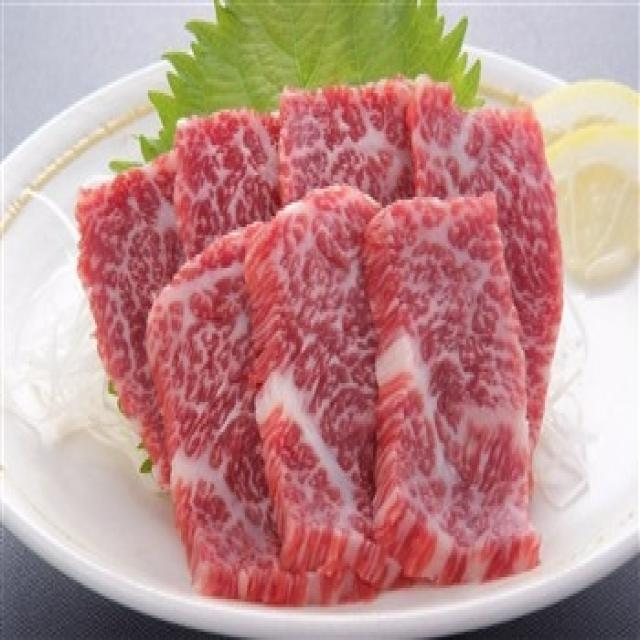刺身生食: (39, 41, 582, 604)
